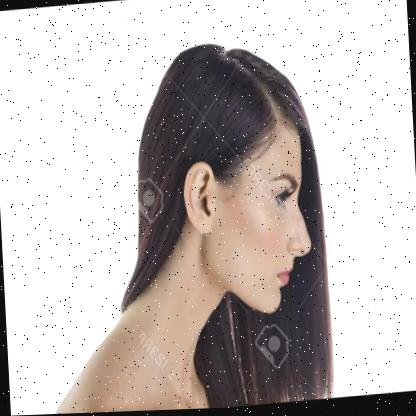person: (23, 9, 351, 415)
